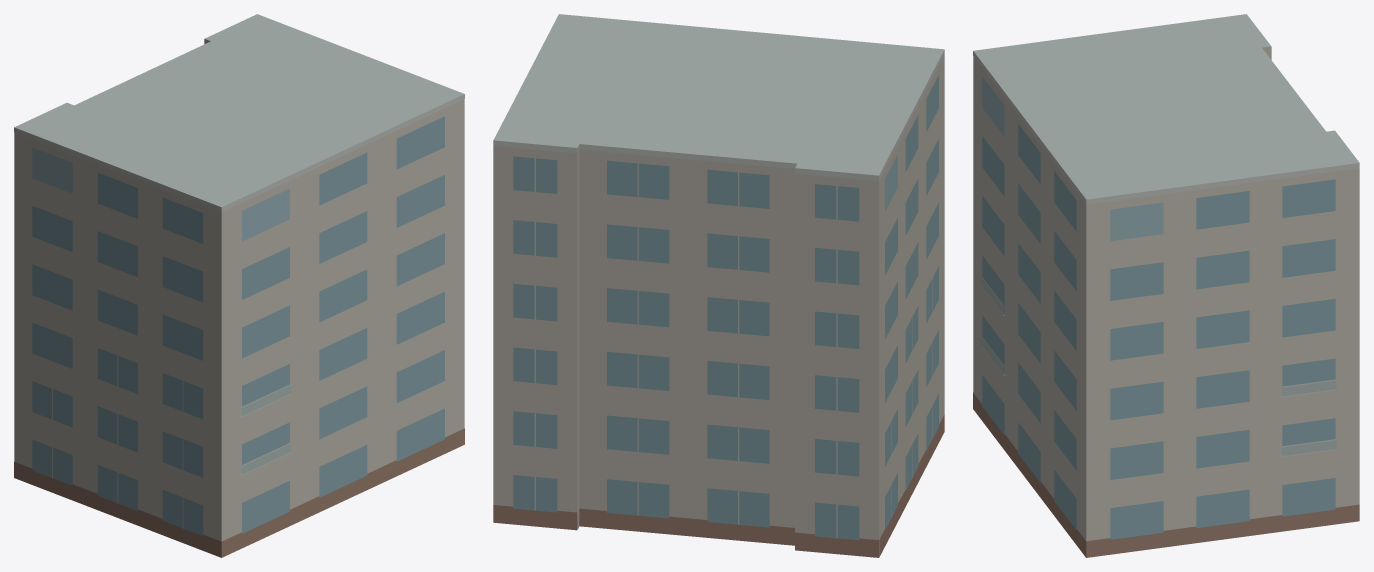
The model's file is survey-upis-32991969.glb.
3 renders of one model, left to right at view 1: azimuth 30°, elevation 25°; view 2: azimuth 150°, elevation 25°; view 3: azimuth 270°, elevation 25°, orthographic. The views are drawn at different scales.
Parts seen in each view (by area): view 1: survey-upis-32991969.tmp; view 2: survey-upis-32991969.tmp; view 3: survey-upis-32991969.tmp.
Boxes of the visible parts, x1=… form: survey-upis-32991969.tmp: x1=14, y1=14, x2=464, y2=557; survey-upis-32991969.tmp: x1=493, y1=14, x2=944, y2=557; survey-upis-32991969.tmp: x1=973, y1=14, x2=1359, y2=557.
Bounding box in the file's own units: 18.84 × 16.95 × 16.58.
